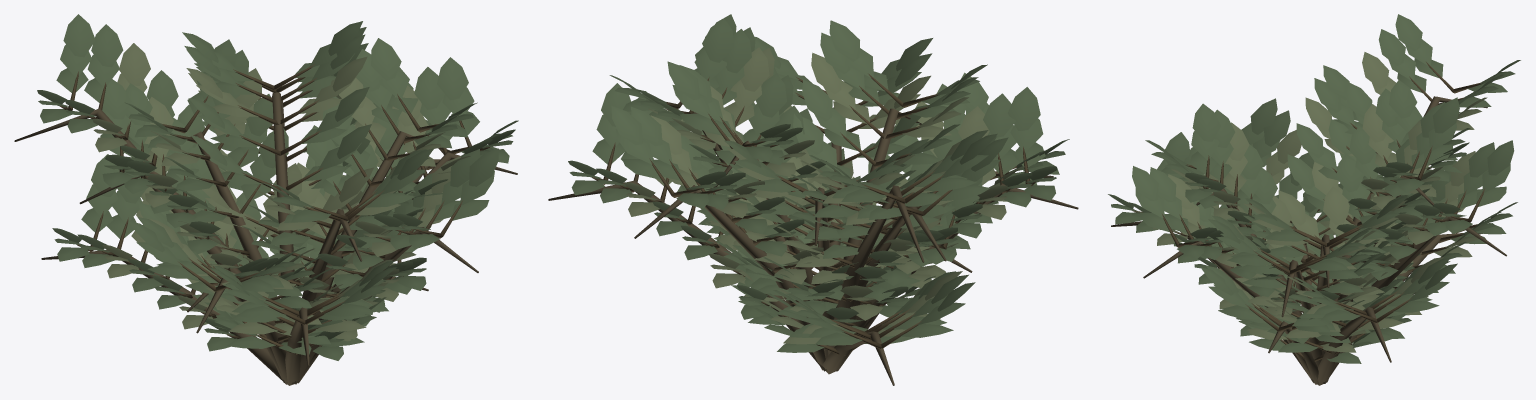
The model's file is heath.glb.
The picture shows the model from 3 angles, left to right: view 1: azimuth 30°, elevation 25°; view 2: azimuth 150°, elevation 25°; view 3: azimuth 270°, elevation 25°; orthographic projection. The views are drawn at different scales.
Parts seen in each view (by area): view 1: RF07 heath; view 2: RF07 heath; view 3: RF07 heath.
Part boxes in pixels (bbox=[...]): RF07 heath: bbox=[14, 14, 518, 385]; RF07 heath: bbox=[548, 14, 1078, 385]; RF07 heath: bbox=[1108, 14, 1520, 385].
Bounding box in the file's own units: 0.9816 × 0.6676 × 0.8944.
